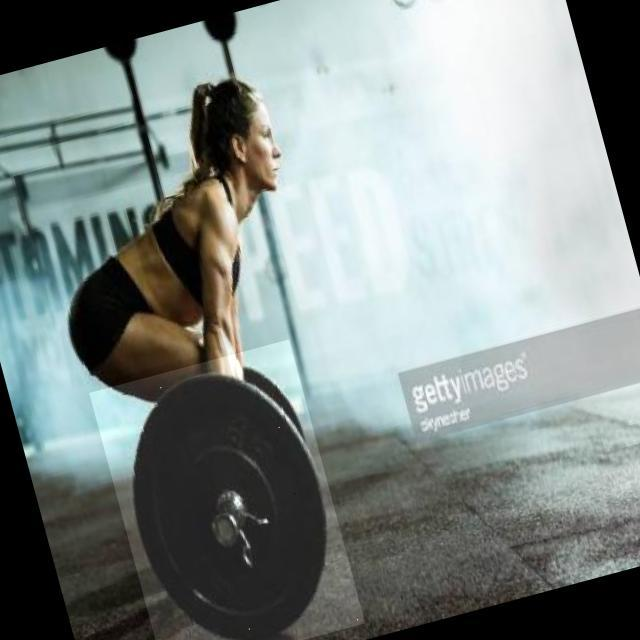barbell: (90, 340, 366, 640)
